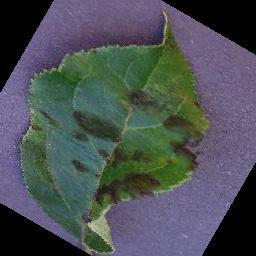apple healthy: (18, 9, 210, 255)
